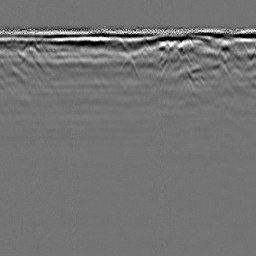cavity: (119, 54, 139, 75)
